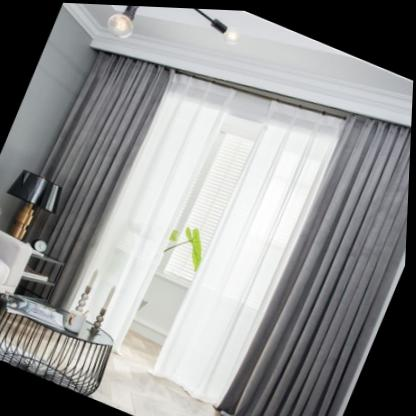Curtains: (219, 111, 412, 416), (22, 51, 173, 305)
Wooden floor: (93, 357, 225, 416)
